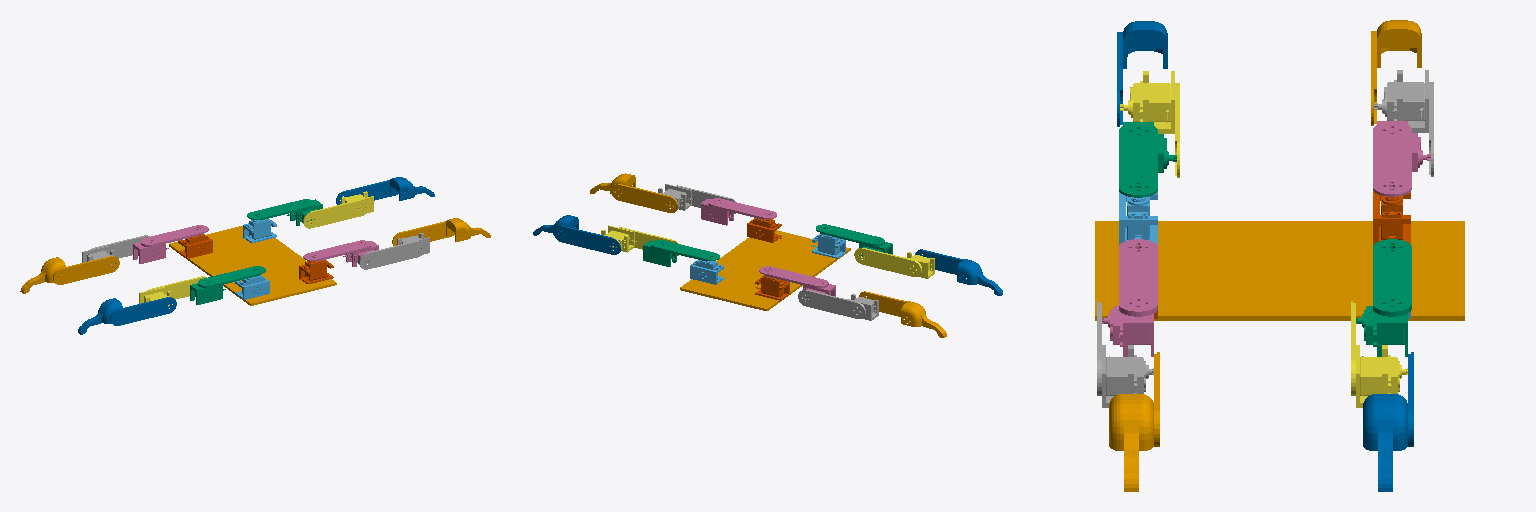
URDF robot description (bob):
<?xml version="1.0"?>
<robot name="bob">
  <link name="base_link"><visual><geometry><mesh filename="package://bob_description/meshes/base_link.stl"/></geometry></visual><inertial><mass value="1.0"/><inertia ixx="0.01" iyy="0.01" izz="0.01" ixy="0" ixz="0" iyz="0"/></inertial></link>
  <link name="leg0_mount"><visual><origin xyz="0 0 0" rpy="0 0 0"/><geometry><mesh filename="package://bob_description/meshes/leg0_part0.stl"/></geometry></visual><inertial><mass value="0.1"/><inertia ixx="0.001" iyy="0.001" izz="0.001" ixy="0" ixz="0" iyz="0"/></inertial></link>
  <joint name="leg0_mount_fixed" type="fixed"><parent link="base_link"/><child link="leg0_mount"/><origin xyz="0 0 0" rpy="0 0 0"/></joint>
  <link name="leg0_joint1_link"><visual><origin xyz="0.137775 0.086000 -0.111950" rpy="0 0 0"/><geometry><mesh filename="package://bob_description/meshes/leg0_part1.stl"/></geometry></visual><inertial><mass value="0.2"/><inertia ixx="0.001" iyy="0.001" izz="0.001" ixy="0" ixz="0" iyz="0"/></inertial></link>
  <joint name="joint1_leg0" type="revolute"><parent link="leg0_mount"/><child link="leg0_joint1_link"/><origin xyz="-0.137775 -0.086000 0.111950" rpy="0 0 0"/><axis xyz="0 0 1"/><limit lower="-1.570796" upper="1.570796" effort="10" velocity="2.618"/></joint>
  <link name="leg0_joint2_link"><visual><origin xyz="0.244985 0.060036 -0.101200" rpy="0 0 0"/><geometry><mesh filename="package://bob_description/meshes/leg0_part2.stl"/></geometry></visual><inertial><mass value="0.2"/><inertia ixx="0.001" iyy="0.001" izz="0.001" ixy="0" ixz="0" iyz="0"/></inertial></link>
  <joint name="joint3_leg0" type="revolute"><parent link="leg0_joint1_link"/><child link="leg0_joint2_link"/><origin xyz="-0.107210 0.025964 -0.010750" rpy="0 0 0"/><axis xyz="0 1 0"/><limit lower="-1.570796" upper="1.570796" effort="10" velocity="2.618"/></joint>
  <link name="leg0_joint3_link"><visual><origin xyz="0.352195 0.093736 -0.101186" rpy="0 0 0"/><geometry><mesh filename="package://bob_description/meshes/leg0_part3.stl"/></geometry></visual><inertial><mass value="0.2"/><inertia ixx="0.001" iyy="0.001" izz="0.001" ixy="0" ixz="0" iyz="0"/></inertial></link>
  <joint name="joint4_leg0" type="revolute"><parent link="leg0_joint2_link"/><child link="leg0_joint3_link"/><origin xyz="-0.107210 -0.033700 -0.000014" rpy="0 0 0"/><axis xyz="0 1 0"/><limit lower="-1.570796" upper="1.570796" effort="10" velocity="2.618"/></joint>
  <link name="leg1_mount"><visual><origin xyz="0 0 0" rpy="0 0 0"/><geometry><mesh filename="package://bob_description/meshes/leg1_part0.stl"/></geometry></visual><inertial><mass value="0.1"/><inertia ixx="0.001" iyy="0.001" izz="0.001" ixy="0" ixz="0" iyz="0"/></inertial></link>
  <joint name="leg1_mount_fixed" type="fixed"><parent link="base_link"/><child link="leg1_mount"/><origin xyz="0 0 0" rpy="0 0 0"/></joint>
  <link name="leg1_joint1_link"><visual><origin xyz="0.139700 -0.140000 -0.111950" rpy="0 0 0"/><geometry><mesh filename="package://bob_description/meshes/leg1_part1.stl"/></geometry></visual><inertial><mass value="0.2"/><inertia ixx="0.001" iyy="0.001" izz="0.001" ixy="0" ixz="0" iyz="0"/></inertial></link>
  <joint name="joint1_leg1" type="revolute"><parent link="leg1_mount"/><child link="leg1_joint1_link"/><origin xyz="-0.139700 0.140000 0.111950" rpy="0 0 0"/><axis xyz="0 0 1"/><limit lower="-1.570796" upper="1.570796" effort="10" velocity="2.618"/></joint>
  <link name="leg1_joint2_link"><visual><origin xyz="0.246910 -0.165964 -0.101200" rpy="0 0 0"/><geometry><mesh filename="package://bob_description/meshes/leg1_part2.stl"/></geometry></visual><inertial><mass value="0.2"/><inertia ixx="0.001" iyy="0.001" izz="0.001" ixy="0" ixz="0" iyz="0"/></inertial></link>
  <joint name="joint3_leg1" type="revolute"><parent link="leg1_joint1_link"/><child link="leg1_joint2_link"/><origin xyz="-0.107210 0.025964 -0.010750" rpy="0 0 0"/><axis xyz="0 1 0"/><limit lower="-1.570796" upper="1.570796" effort="10" velocity="2.618"/></joint>
  <link name="leg1_joint3_link"><visual><origin xyz="0.354120 -0.132264 -0.101186" rpy="0 0 0"/><geometry><mesh filename="package://bob_description/meshes/leg1_part3.stl"/></geometry></visual><inertial><mass value="0.2"/><inertia ixx="0.001" iyy="0.001" izz="0.001" ixy="0" ixz="0" iyz="0"/></inertial></link>
  <joint name="joint4_leg1" type="revolute"><parent link="leg1_joint2_link"/><child link="leg1_joint3_link"/><origin xyz="-0.107210 -0.033700 -0.000014" rpy="0 0 0"/><axis xyz="0 1 0"/><limit lower="-1.570796" upper="1.570796" effort="10" velocity="2.618"/></joint>
  <link name="leg2_mount"><visual><origin xyz="0 0 0" rpy="0 0 0"/><geometry><mesh filename="package://bob_description/meshes/leg2_part0.stl"/></geometry></visual><inertial><mass value="0.1"/><inertia ixx="0.001" iyy="0.001" izz="0.001" ixy="0" ixz="0" iyz="0"/></inertial></link>
  <joint name="leg2_mount_fixed" type="fixed"><parent link="base_link"/><child link="leg2_mount"/><origin xyz="0 0 0" rpy="0 0 0"/></joint>
  <link name="leg2_joint1_link"><visual><origin xyz="0.010300 -0.140000 -0.111950" rpy="0 0 0"/><geometry><mesh filename="package://bob_description/meshes/leg2_part1.stl"/></geometry></visual><inertial><mass value="0.2"/><inertia ixx="0.001" iyy="0.001" izz="0.001" ixy="0" ixz="0" iyz="0"/></inertial></link>
  <joint name="joint1_leg2" type="revolute"><parent link="leg2_mount"/><child link="leg2_joint1_link"/><origin xyz="-0.010300 0.140000 0.111950" rpy="0 0 0"/><axis xyz="0 0 1"/><limit lower="-1.570796" upper="1.570796" effort="10" velocity="2.618"/></joint>
  <link name="leg2_joint2_link"><visual><origin xyz="-0.096910 -0.114036 -0.101200" rpy="0 0 0"/><geometry><mesh filename="package://bob_description/meshes/leg2_part2.stl"/></geometry></visual><inertial><mass value="0.2"/><inertia ixx="0.001" iyy="0.001" izz="0.001" ixy="0" ixz="0" iyz="0"/></inertial></link>
  <joint name="joint3_leg2" type="revolute"><parent link="leg2_joint1_link"/><child link="leg2_joint2_link"/><origin xyz="0.107210 -0.025964 -0.010750" rpy="0 0 0"/><axis xyz="0 1 0"/><limit lower="-1.570796" upper="1.570796" effort="10" velocity="2.618"/></joint>
  <link name="leg2_joint3_link"><visual><origin xyz="-0.204120 -0.147736 -0.101186" rpy="0 0 0"/><geometry><mesh filename="package://bob_description/meshes/leg2_part3.stl"/></geometry></visual><inertial><mass value="0.2"/><inertia ixx="0.001" iyy="0.001" izz="0.001" ixy="0" ixz="0" iyz="0"/></inertial></link>
  <joint name="joint4_leg2" type="revolute"><parent link="leg2_joint2_link"/><child link="leg2_joint3_link"/><origin xyz="0.107210 0.033700 -0.000014" rpy="0 0 0"/><axis xyz="0 1 0"/><limit lower="-1.570796" upper="1.570796" effort="10" velocity="2.618"/></joint>
  <link name="leg3_mount"><visual><origin xyz="0 0 0" rpy="0 0 0"/><geometry><mesh filename="package://bob_description/meshes/leg3_part0.stl"/></geometry></visual><inertial><mass value="0.1"/><inertia ixx="0.001" iyy="0.001" izz="0.001" ixy="0" ixz="0" iyz="0"/></inertial></link>
  <joint name="leg3_mount_fixed" type="fixed"><parent link="base_link"/><child link="leg3_mount"/><origin xyz="0 0 0" rpy="0 0 0"/></joint>
  <link name="leg3_joint1_link"><visual><origin xyz="0.010300 0.086000 -0.111950" rpy="0 0 0"/><geometry><mesh filename="package://bob_description/meshes/leg3_part1.stl"/></geometry></visual><inertial><mass value="0.2"/><inertia ixx="0.001" iyy="0.001" izz="0.001" ixy="0" ixz="0" iyz="0"/></inertial></link>
  <joint name="joint1_leg3" type="revolute"><parent link="leg3_mount"/><child link="leg3_joint1_link"/><origin xyz="-0.010300 -0.086000 0.111950" rpy="0 0 0"/><axis xyz="0 0 1"/><limit lower="-1.570796" upper="1.570796" effort="10" velocity="2.618"/></joint>
  <link name="leg3_joint2_link"><visual><origin xyz="-0.096910 0.111964 -0.101200" rpy="0 0 0"/><geometry><mesh filename="package://bob_description/meshes/leg3_part2.stl"/></geometry></visual><inertial><mass value="0.2"/><inertia ixx="0.001" iyy="0.001" izz="0.001" ixy="0" ixz="0" iyz="0"/></inertial></link>
  <joint name="joint3_leg3" type="revolute"><parent link="leg3_joint1_link"/><child link="leg3_joint2_link"/><origin xyz="0.107210 -0.025964 -0.010750" rpy="0 0 0"/><axis xyz="0 1 0"/><limit lower="-1.570796" upper="1.570796" effort="10" velocity="2.618"/></joint>
  <link name="leg3_joint3_link"><visual><origin xyz="-0.204120 0.078264 -0.101186" rpy="0 0 0"/><geometry><mesh filename="package://bob_description/meshes/leg3_part3.stl"/></geometry></visual><inertial><mass value="0.2"/><inertia ixx="0.001" iyy="0.001" izz="0.001" ixy="0" ixz="0" iyz="0"/></inertial></link>
  <joint name="joint4_leg3" type="revolute"><parent link="leg3_joint2_link"/><child link="leg3_joint3_link"/><origin xyz="0.107210 0.033700 -0.000014" rpy="0 0 0"/><axis xyz="0 1 0"/><limit lower="-1.570796" upper="1.570796" effort="10" velocity="2.618"/></joint>
</robot>

--- Facts derived from the render (not from the file) ---
Views: 3 orthographic renders of the robot side by side, from view 1: azimuth 30°, elevation 25°; view 2: azimuth 150°, elevation 25°; view 3: azimuth 270°, elevation 25°.
Robot: bob — 17 links, 16 joints (12 revolute, 4 fixed); root link base_link; default pose: all joints at 0.
Links seen in each view (by area): view 1: base_link, leg1_joint3_link, leg0_joint3_link, leg2_joint2_link, leg3_joint2_link, leg0_joint1_link, leg1_joint1_link, leg3_joint3_link, leg2_joint3_link, leg3_joint1_link, leg2_joint1_link, leg0_joint2_link (+5 smaller); view 2: base_link, leg1_joint2_link, leg2_joint3_link, leg3_joint3_link, leg0_joint2_link, leg0_joint3_link, leg1_joint3_link, leg2_joint1_link, leg3_joint1_link, leg0_joint1_link, leg1_joint1_link, leg3_joint2_link (+5 smaller); view 3: base_link, leg2_joint1_link, leg3_joint1_link, leg2_joint3_link, leg3_joint3_link, leg0_joint1_link, leg1_joint1_link, leg0_joint2_link, leg1_joint2_link, leg3_joint2_link, leg2_joint2_link, leg1_joint3_link (+3 smaller).
Boxes of the visible links, box(x1,y1,x2,y2) form: base_link: box(169, 226, 336, 305); leg1_joint3_link: box(20, 256, 119, 293); leg0_joint3_link: box(78, 297, 176, 334); leg2_joint2_link: box(303, 191, 373, 228); leg3_joint2_link: box(359, 233, 429, 269); leg0_joint1_link: box(190, 266, 265, 304); leg1_joint1_link: box(133, 225, 208, 263); leg3_joint3_link: box(392, 218, 490, 245); leg2_joint3_link: box(336, 177, 434, 204); leg3_joint1_link: box(303, 240, 378, 266); leg2_joint1_link: box(247, 199, 322, 225); leg0_joint2_link: box(139, 276, 206, 306); base_link: box(680, 230, 850, 310); leg1_joint2_link: box(798, 290, 878, 320); leg2_joint3_link: box(533, 215, 620, 254); leg3_joint3_link: box(590, 173, 677, 212); leg0_joint2_link: box(854, 248, 934, 278); leg0_joint3_link: box(915, 249, 1002, 295); leg1_joint3_link: box(859, 291, 946, 337); leg2_joint1_link: box(643, 240, 719, 266); leg3_joint1_link: box(701, 198, 776, 225); leg0_joint1_link: box(816, 224, 892, 257); leg1_joint1_link: box(759, 266, 835, 299); leg3_joint2_link: box(658, 184, 735, 213); base_link: box(1095, 221, 1464, 320); leg2_joint1_link: box(1356, 239, 1411, 356); leg3_joint1_link: box(1102, 239, 1157, 356); leg2_joint3_link: box(1363, 352, 1413, 491); leg3_joint3_link: box(1109, 352, 1159, 491); leg0_joint1_link: box(1119, 122, 1176, 197); leg1_joint1_link: box(1373, 121, 1430, 196); leg0_joint2_link: box(1120, 71, 1179, 177); leg1_joint2_link: box(1374, 70, 1433, 176); leg3_joint2_link: box(1097, 301, 1153, 407); leg2_joint2_link: box(1351, 301, 1407, 407); leg1_joint3_link: box(1371, 20, 1421, 125).
Size in the robot's own frame: 0.9473 by 0.33 by 0.0612 metres.
17 mesh visuals loaded from 17 distinct referenced files (17 binary STL).
